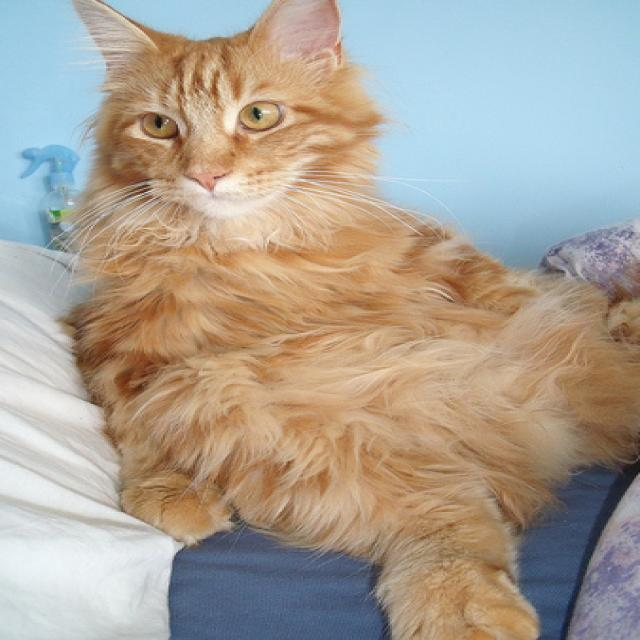Maine Coon: (57, 0, 640, 640)
